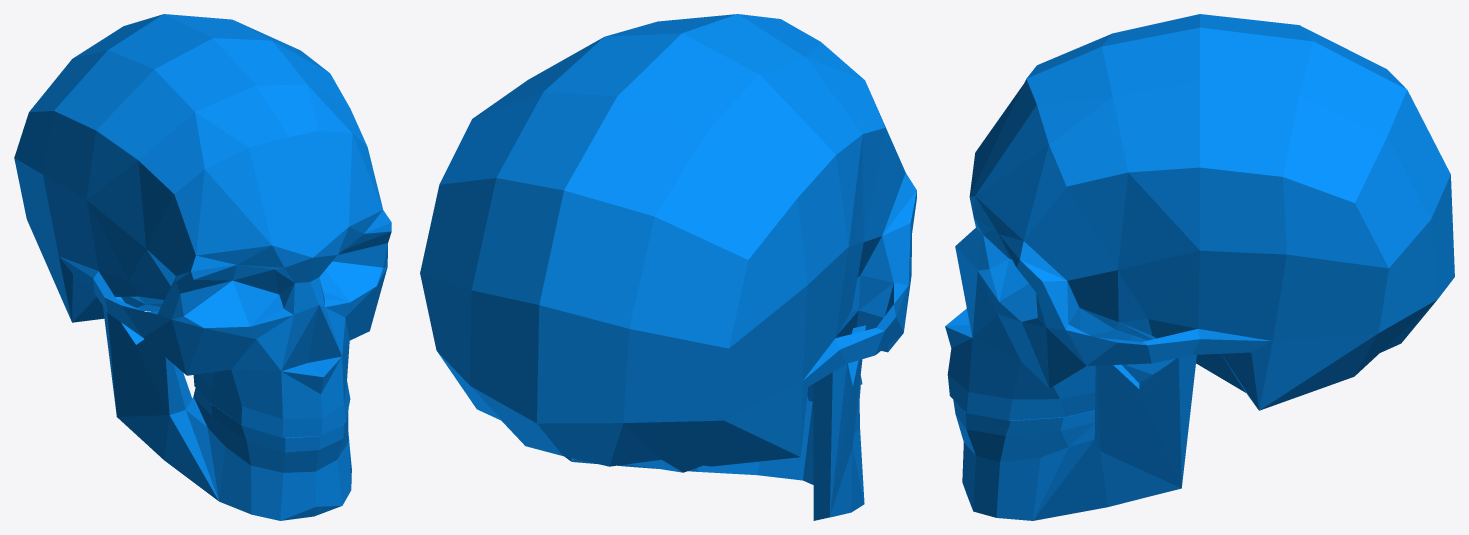
File: skull.glb
3 renders of one model, left to right at view 1: azimuth 30°, elevation 25°; view 2: azimuth 150°, elevation 25°; view 3: azimuth 270°, elevation 25°, orthographic. The views are drawn at different scales.
Visible parts, largest first — view 1: Cube, Cube.001; view 2: Cube, Cube.001; view 3: Cube, Cube.001.
Part boxes in pixels (left/top/right/bottom): Cube: left=14, top=14, right=391, bottom=437; Cube.001: left=103, top=297, right=351, bottom=520; Cube: left=420, top=14, right=916, bottom=472; Cube.001: left=564, top=325, right=866, bottom=520; Cube: left=945, top=14, right=1454, bottom=420; Cube.001: left=953, top=335, right=1196, bottom=520.
Bounding box in the file's own units: 1.36 × 1.99 × 1.95.
